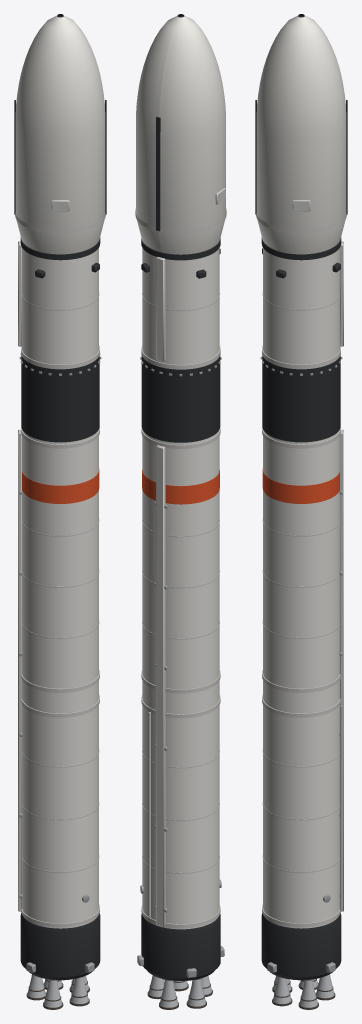
The model's file is env_launcher.glb.
The picture shows the model from 3 angles, left to right: view 1: azimuth 90°, elevation 25°; view 2: azimuth 150°, elevation 25°; view 3: azimuth 270°, elevation 25°; orthographic projection.
Visible parts, largest first — view 1: Stage1, Fairing_B, Stage2; view 2: Stage1, Fairing_B, Stage2, Fairing_A; view 3: Stage1, Fairing_A, Stage2.
Boxes of the visible parts, x1,y1,x2,y2 form: Stage1: [18, 353, 101, 1009]; Fairing_B: [14, 15, 106, 253]; Stage2: [18, 237, 100, 369]; Stage1: [137, 353, 224, 1009]; Fairing_B: [158, 14, 226, 254]; Stage2: [141, 238, 220, 369]; Fairing_A: [135, 14, 182, 251]; Stage1: [260, 354, 343, 1009]; Fairing_A: [255, 15, 347, 253]; Stage2: [261, 237, 343, 369].
Size of the model in its own units: 1.58 by 18.23 by 1.56.
